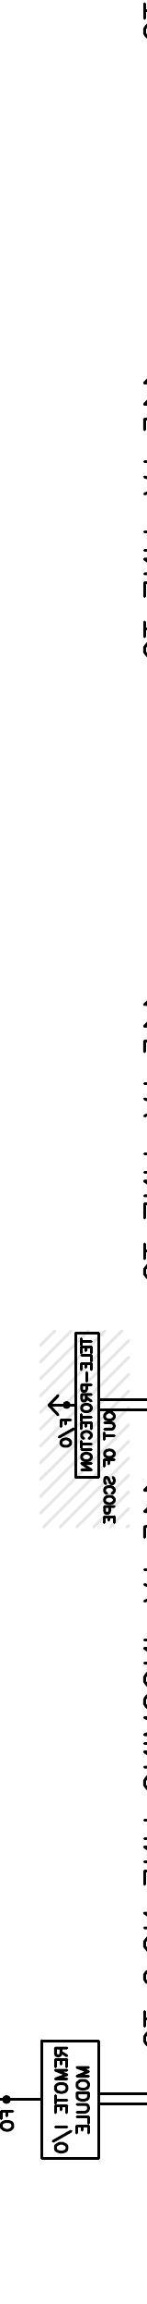remote_io_module: (40, 2040, 100, 2160)
tele_protection: (73, 1331, 101, 1480)
